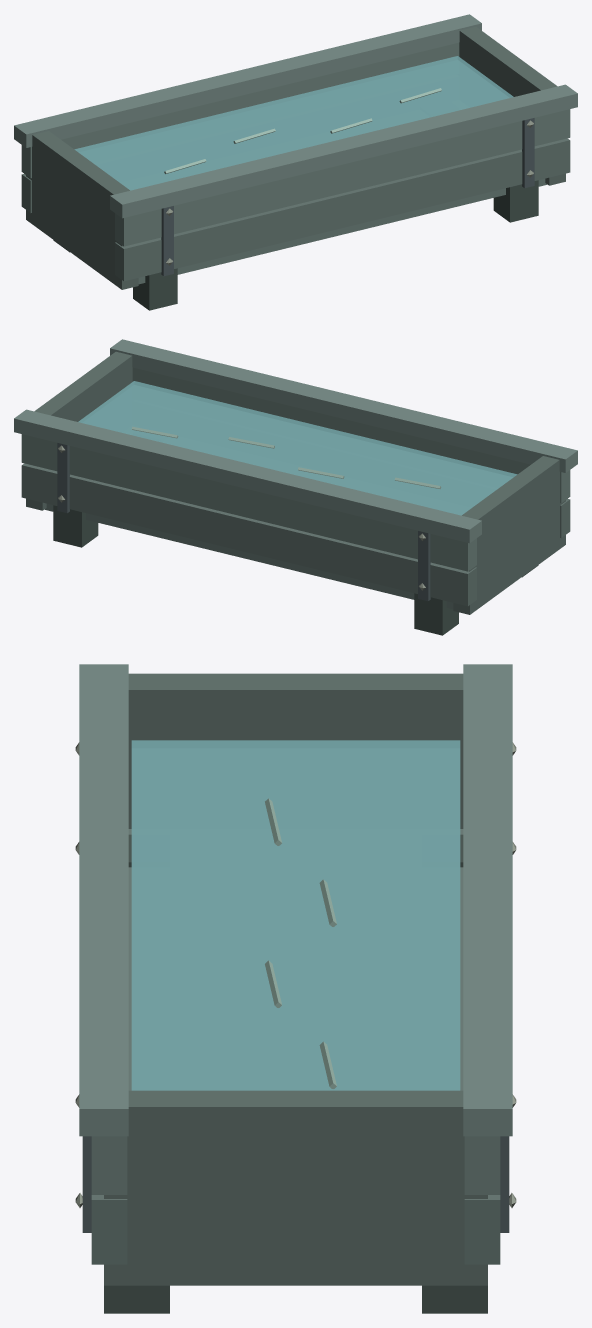
Rendered from water_trough.glb.
The picture shows the model from 3 angles, top to bottom: view 1: azimuth 30°, elevation 25°; view 2: azimuth 150°, elevation 25°; view 3: azimuth 270°, elevation 25°; orthographic projection. The views are drawn at different scales.
Parts seen in each view (by area): view 1: geometry, water; view 2: geometry, water; view 3: geometry, water.
Boxes of the visible parts, x1=… form: geometry: x1=14, y1=14, x2=577, y2=310; water: x1=74, y1=56, x2=513, y2=190; geometry: x1=14, y1=339, x2=577, y2=635; water: x1=78, y1=381, x2=517, y2=515; geometry: x1=75, y1=664, x2=516, y2=1313; water: x1=131, y1=740, x2=460, y2=1090.
Bounding box in the file's own units: 1.92 × 0.4775 × 0.8036.
